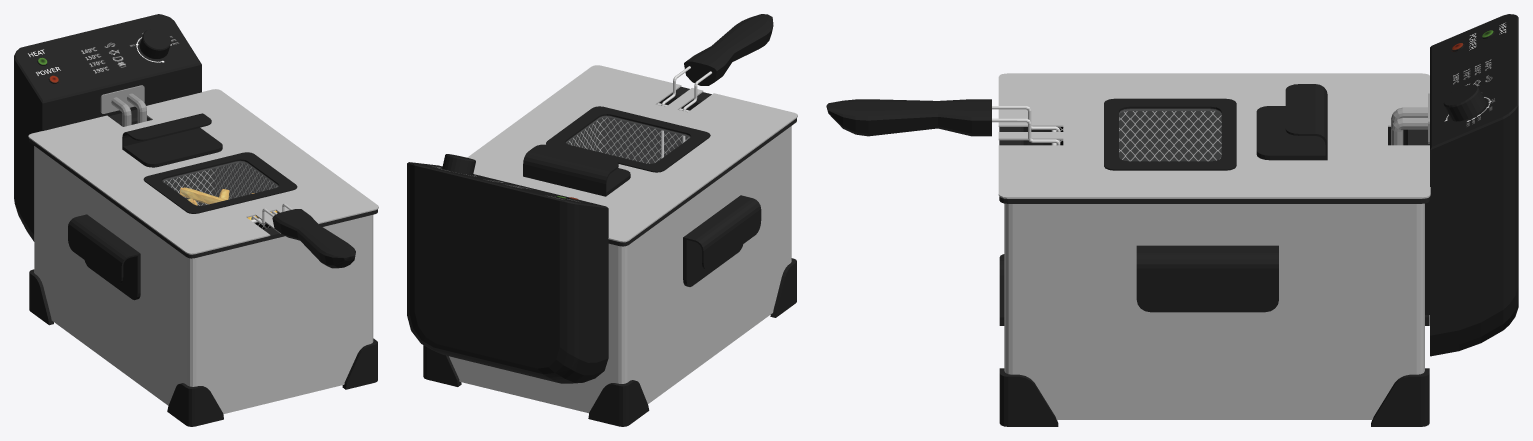
Rendered from sweethome3d-scopia-deep-fryer.glb.
The picture shows the model from 3 angles, left to right: view 1: azimuth 30°, elevation 25°; view 2: azimuth 150°, elevation 25°; view 3: azimuth 270°, elevation 25°; orthographic projection. The views are drawn at different scales.
Visible parts, largest first — view 1: baseMetal_Cube, cover_Cube.006, mechanism_Cube.002, supports_Cube.004, coverHandle_Cube.007, handles_Cube.003, glass_Cube.010, topWindow_Cube.005, net_basquet.001, Circle_Circle.003, ceramic_Cube.001, resistance (+2 smaller); view 2: mechanism_Cube.002, baseMetal_Cube, cover_Cube.006, handles_Cube.003, supports_Cube.004, coverHandle_Cube.007, glass_Cube.010, net_basquet.001, topWindow_Cube.005, Circle_Circle.003, ceramic_Cube.001, selector_Circle.002 (+1 smaller); view 3: baseMetal_Cube, cover_Cube.006, mechanism_Cube.002, handles_Cube.003, supports_Cube.004, Circle_Circle.003, glass_Cube.010, net_basquet.001, coverHandle_Cube.007, topWindow_Cube.005, ceramic_Cube.001, selector_Circle.002 (+2 smaller).
Boxes of the visible parts, x1=… form: baseMetal_Cube: x1=34, y1=146, x2=373, y2=414; cover_Cube.006: x1=28, y1=89, x2=378, y2=254; mechanism_Cube.002: x1=14, y1=14, x2=201, y2=241; supports_Cube.004: x1=29, y1=269, x2=377, y2=426; coverHandle_Cube.007: x1=122, y1=113, x2=222, y2=167; handles_Cube.003: x1=68, y1=214, x2=140, y2=300; glass_Cube.010: x1=163, y1=161, x2=277, y2=205; topWindow_Cube.005: x1=143, y1=152, x2=297, y2=213; net_basquet.001: x1=163, y1=162, x2=278, y2=229; Circle_Circle.003: x1=272, y1=209, x2=355, y2=268; ceramic_Cube.001: x1=29, y1=109, x2=377, y2=258; resistance: x1=100, y1=85, x2=146, y2=126; mechanism_Cube.002: x1=407, y1=162, x2=608, y2=383; baseMetal_Cube: x1=449, y1=126, x2=791, y2=413; cover_Cube.006: x1=467, y1=65, x2=797, y2=242; handles_Cube.003: x1=683, y1=195, x2=761, y2=286; supports_Cube.004: x1=423, y1=258, x2=796, y2=426; coverHandle_Cube.007: x1=523, y1=144, x2=630, y2=196; glass_Cube.010: x1=566, y1=116, x2=689, y2=163; net_basquet.001: x1=566, y1=117, x2=689, y2=163; topWindow_Cube.005: x1=546, y1=106, x2=710, y2=172; Circle_Circle.003: x1=684, y1=14, x2=773, y2=85; ceramic_Cube.001: x1=608, y1=86, x2=796, y2=246; selector_Circle.002: x1=442, y1=154, x2=475, y2=175; baseMetal_Cube: x1=1004, y1=203, x2=1424, y2=419; cover_Cube.006: x1=998, y1=73, x2=1430, y2=198; mechanism_Cube.002: x1=1425, y1=14, x2=1518, y2=356; handles_Cube.003: x1=1136, y1=245, x2=1278, y2=312; supports_Cube.004: x1=999, y1=254, x2=1429, y2=426; Circle_Circle.003: x1=826, y1=99, x2=991, y2=136; glass_Cube.010: x1=1119, y1=109, x2=1221, y2=160; net_basquet.001: x1=1056, y1=111, x2=1221, y2=161; coverHandle_Cube.007: x1=1256, y1=84, x2=1327, y2=160; topWindow_Cube.005: x1=1104, y1=98, x2=1236, y2=170; ceramic_Cube.001: x1=999, y1=127, x2=1429, y2=203; selector_Circle.002: x1=1443, y1=84, x2=1486, y2=121.
Size of the model in its own units: 27.93 by 27.82 by 56.81.
15 materials, 5 textured.
